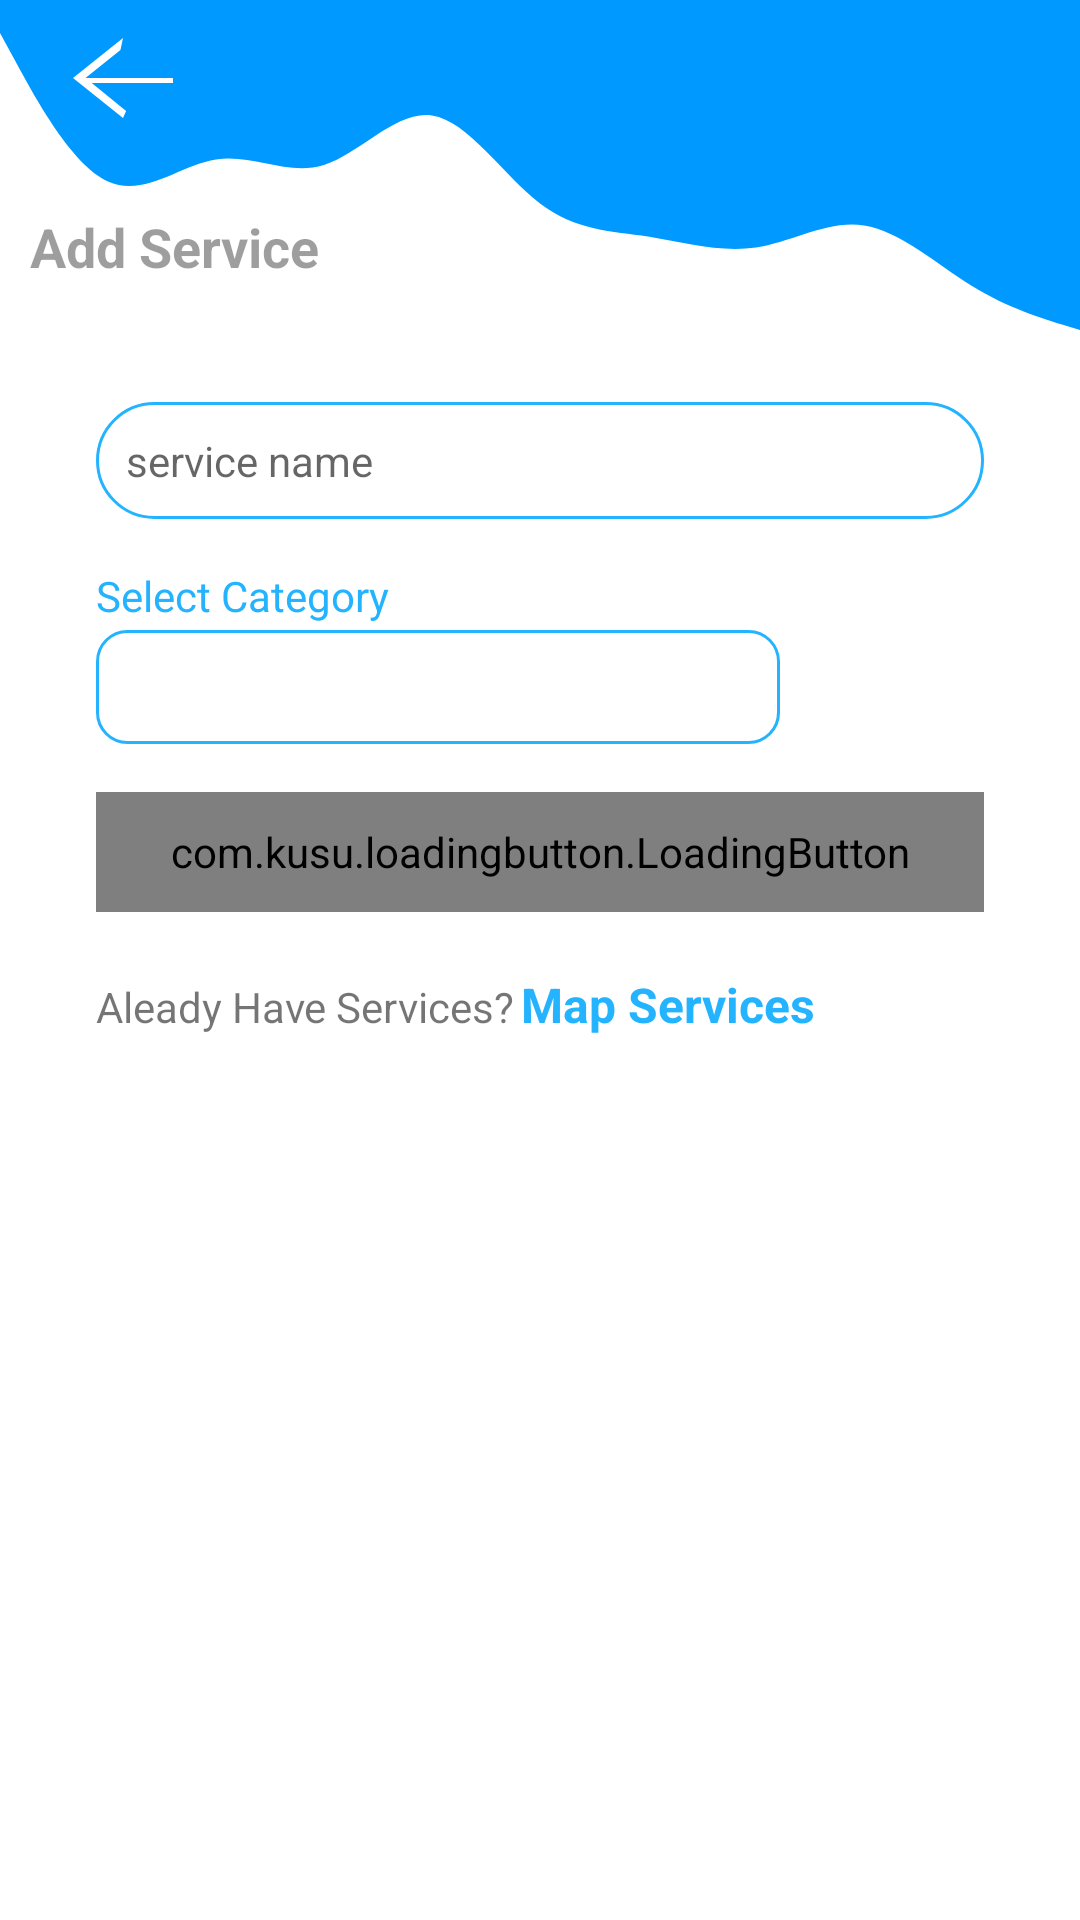

Locate icon controls on the screen. Image size 1080px×1920px, boxes as region(x1, y1, x2, y2).
back arrow: region(73, 38, 173, 118)
